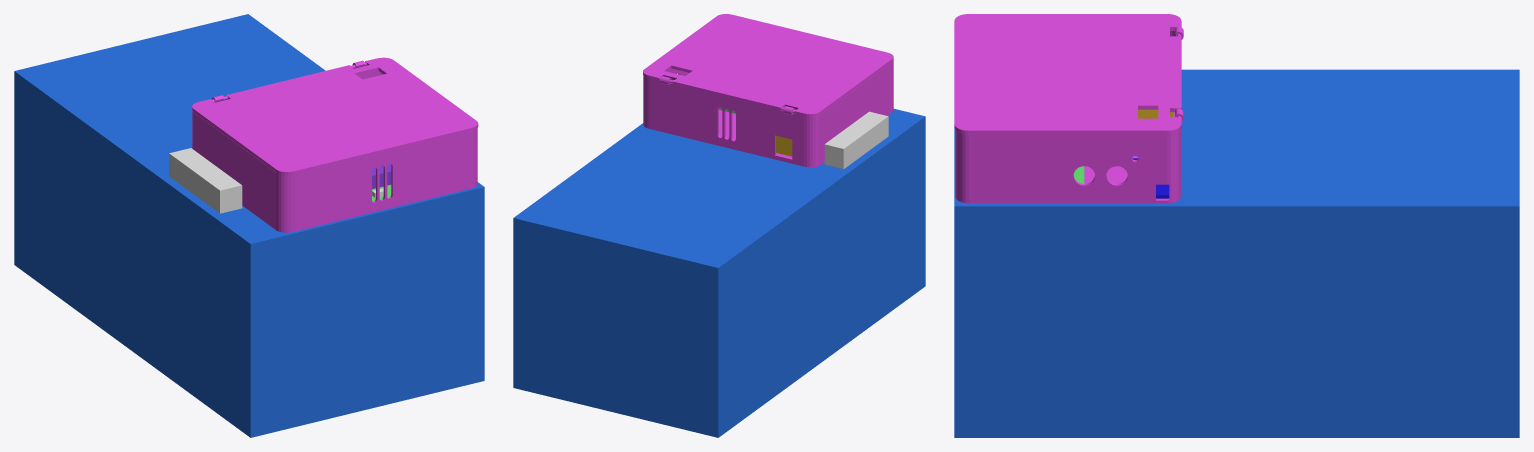
File: wadahalat4.glb
3 renders of one model, left to right at view 1: azimuth 30°, elevation 25°; view 2: azimuth 150°, elevation 25°; view 3: azimuth 270°, elevation 25°, orthographic. The views are drawn at different scales.
Parts seen in each view (by area): view 1: Cube.005, Tutup, Kotak, Cube.006; view 2: Cube.005, Tutup, Kotak, Cube.006; view 3: Cube.005, Tutup, Kotak.
Boxes of the visible parts, <box> form: Cube.005: <box>14,14,484,437</box>; Tutup: <box>192,57,478,175</box>; Kotak: <box>192,60,477,232</box>; Cube.006: <box>169,148,242,213</box>; Cube.005: <box>513,108,925,437</box>; Tutup: <box>643,14,893,116</box>; Kotak: <box>643,61,893,167</box>; Cube.006: <box>824,111,888,169</box>; Cube.005: <box>954,69,1519,437</box>; Tutup: <box>954,14,1181,134</box>; Kotak: <box>955,26,1183,203</box>.
Size of the model in its own units: 0.24 by 0.2527 by 0.42.
